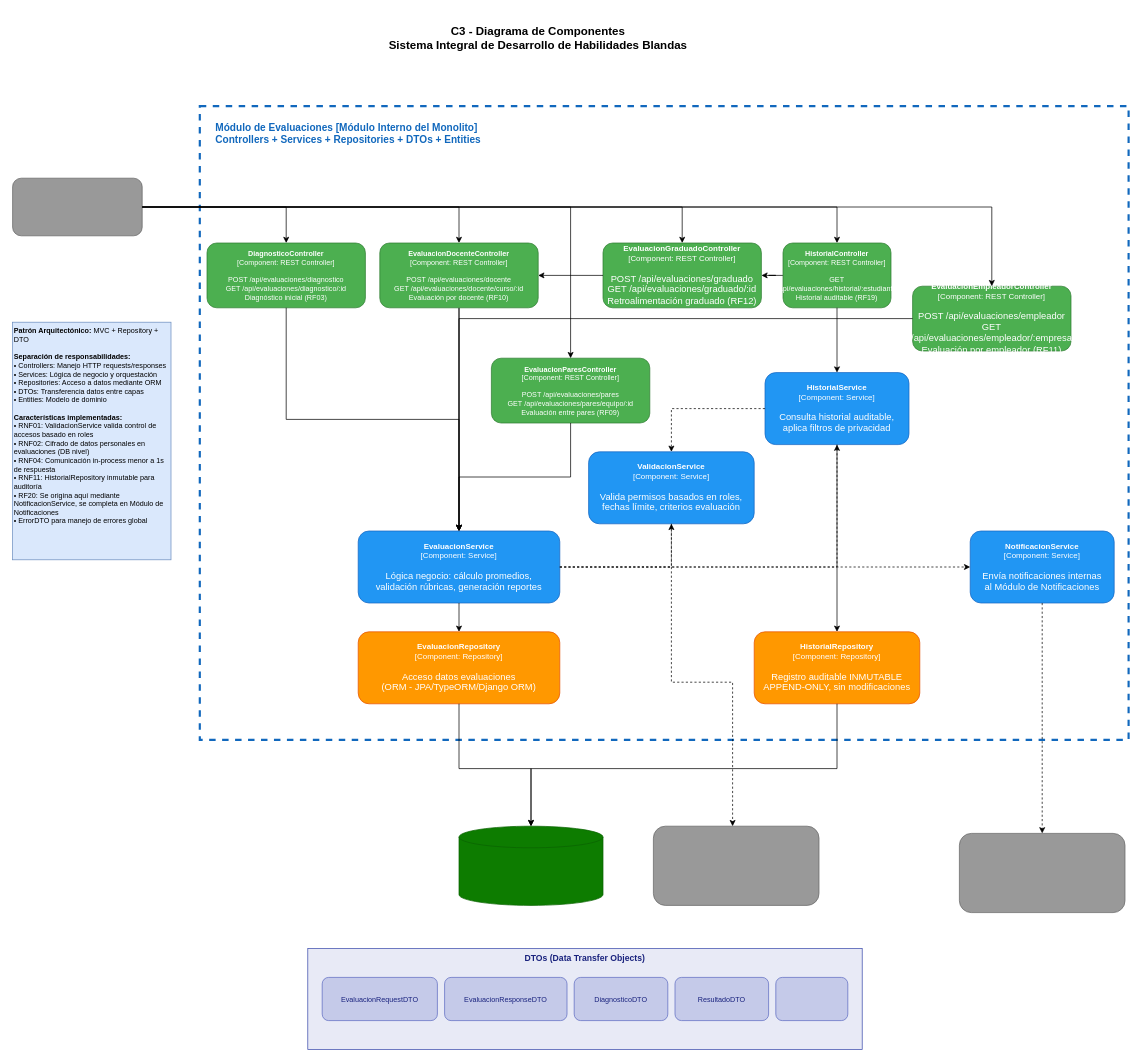
The diagram is 1142 pixels wide and 1062 high, and some of its shapes have lost their labels. The centre of each missing label's shape, as x and y in pixels:
ErrorDTO: point 811,999
Frontend [Container]: point 77,206
Módulo Notificaciones [Módulo Interno] Envía emails/notificaciones: point 1042,873
Módulo Usuarios [Módulo Interno] Valida permisos basados en roles: point 736,865
PostgreSQL [Container] Tablas: evaluaciones, historial_auditoria (inmutable): point 530,865
